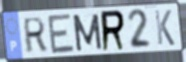2: (126, 8, 153, 52)
E: (46, 12, 77, 56)
K: (153, 9, 177, 47)
M: (71, 13, 104, 53)
R: (100, 9, 127, 54), (23, 16, 48, 55)
